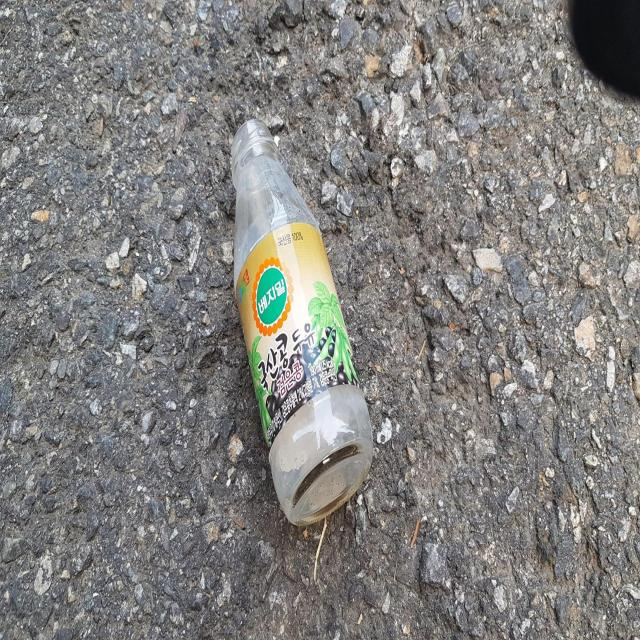glass: (232, 119, 373, 525)
